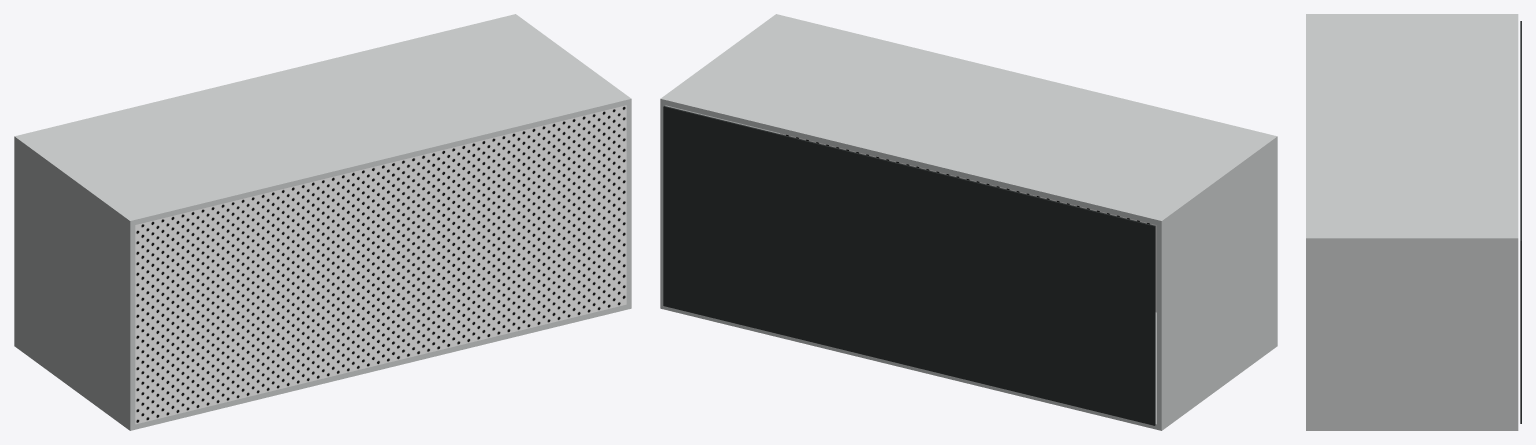
The model's file is ecoclima-egfc-300x120.glb.
The picture shows the model from 3 angles, left to right: view 1: azimuth 30°, elevation 25°; view 2: azimuth 150°, elevation 25°; view 3: azimuth 270°, elevation 25°; orthographic projection. The views are drawn at different scales.
Visible parts, largest first — view 1: Profile_lamiera_forata.004, Profile_ritorno.132, Profile_ritorno.134, Profile_ritorno.133, Profile_ritorno.135; view 2: Interno.035, Profile_ritorno.132, Profile_ritorno.134, Profile_ritorno.133, Profile_ritorno.135, Profile_lamiera_forata.004; view 3: Profile_ritorno.132, Profile_ritorno.135, Profile_ritorno.133, Interno.035.
Part boxes in pixels (x1,y1,x2,y2): Profile_lamiera_forata.004: (135,105,626,424); Profile_ritorno.132: (14,14,631,226); Profile_ritorno.134: (14,142,135,425); Profile_ritorno.133: (14,303,631,430); Profile_ritorno.135: (626,104,631,304); Interno.035: (663,106,1155,425); Profile_ritorno.132: (660,14,1277,226); Profile_ritorno.134: (1156,142,1277,425); Profile_ritorno.133: (660,303,1277,430); Profile_ritorno.135: (660,104,779,303); Profile_lamiera_forata.004: (780,133,1156,312); Profile_ritorno.132: (1306,14,1518,243); Profile_ritorno.135: (1306,243,1518,426); Profile_ritorno.133: (1306,426,1518,430); Interno.035: (1520,21,1521,423).
Size of the model in its own units: 0.3 by 0.12 by 0.122.
Materials: 3 (1 with a texture image).
